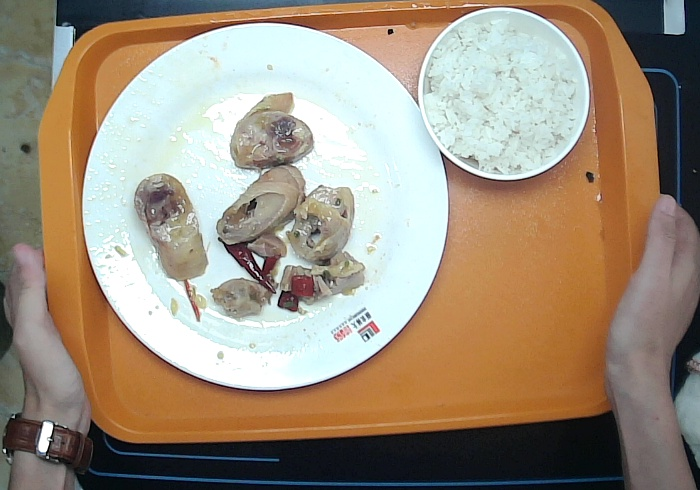ZNLD-Da_Yuan_Pan: (76, 19, 454, 395)
ZNLD-Fan_Wan: (413, 4, 595, 186)
